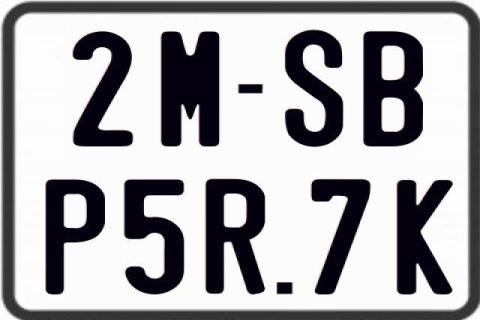0: (121, 178, 186, 294), (309, 177, 371, 293), (74, 29, 136, 144)
B: (362, 30, 426, 148)
K: (398, 180, 454, 299)
M: (159, 30, 221, 146)
P: (44, 179, 103, 297)
R: (204, 177, 268, 297)
S: (285, 28, 345, 147)
